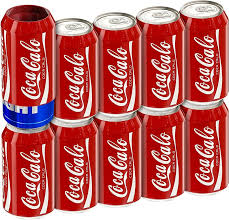can: (1, 1, 229, 220)
